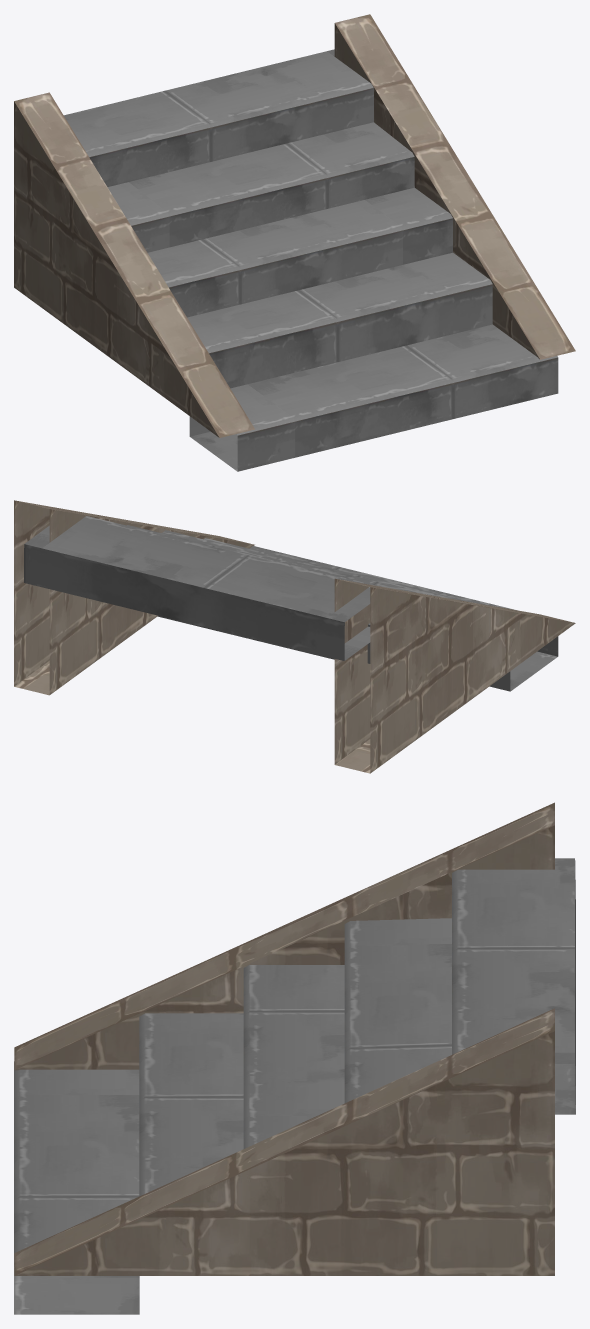
File: Stairs_Exterior_Straight.gltf
The picture shows the model from 3 angles, top to bottom: view 1: azimuth 30°, elevation 25°; view 2: azimuth 150°, elevation 25°; view 3: azimuth 270°, elevation 25°; orthographic projection. The views are drawn at different scales.
Parts seen in each view (by area): view 1: Stairs_Exterior_Straight; view 2: Stairs_Exterior_Straight; view 3: Stairs_Exterior_Straight.
Part boxes in pixels (x1,y1,x2,y2): Stairs_Exterior_Straight: (14, 14, 575, 471); Stairs_Exterior_Straight: (14, 500, 575, 773); Stairs_Exterior_Straight: (14, 802, 575, 1314).
Bounding box in the file's own units: 2 × 1.2 × 2.08.
Materials: 2 (2 with a texture image).
